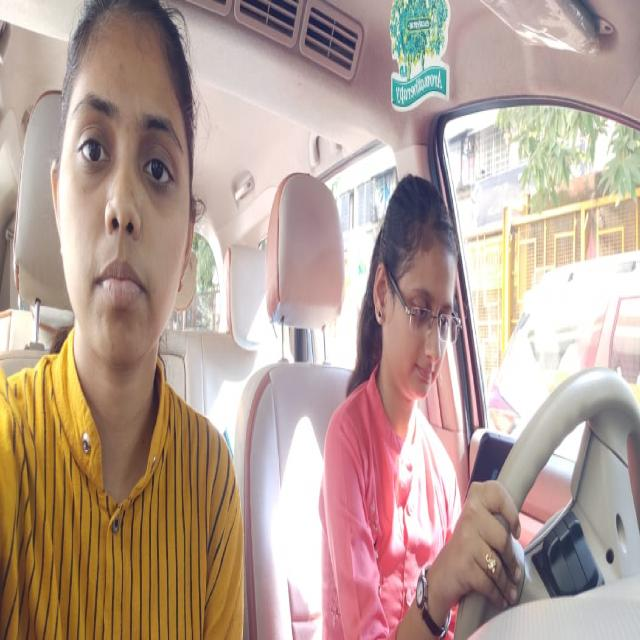mobile: (466, 400, 519, 533)
person: (50, 3, 212, 408), (368, 158, 472, 428)
